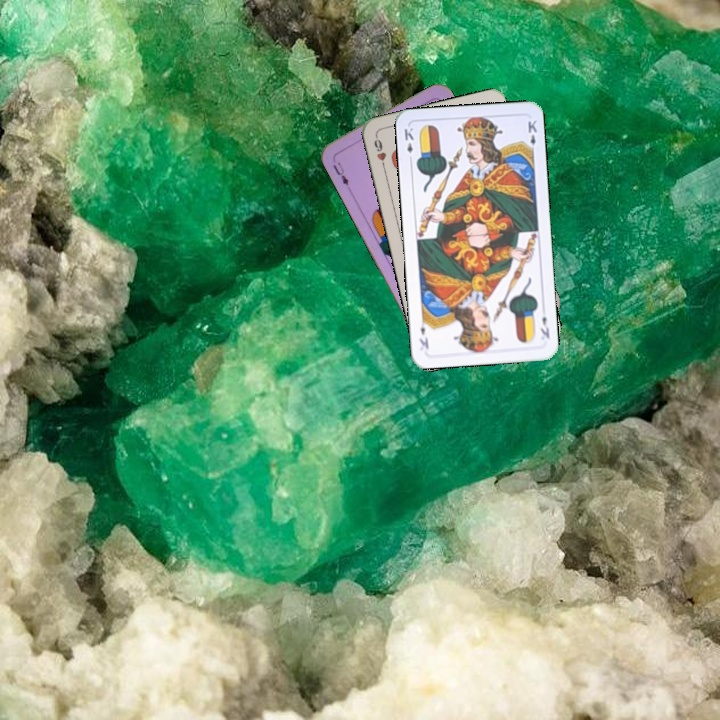EK: (400, 124, 416, 164), (536, 312, 552, 341)
EU: (329, 158, 351, 188)
H9: (370, 132, 389, 172)
